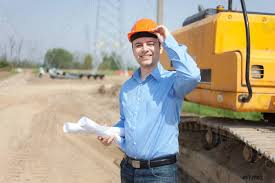casque: (83, 14, 214, 181)
